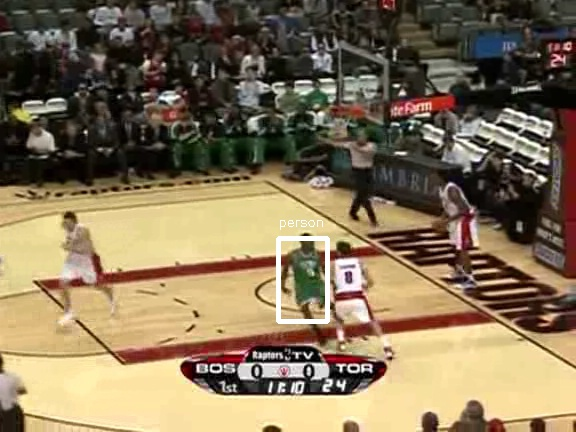person: (294, 238, 328, 319), (293, 238, 327, 319), (295, 238, 329, 319), (294, 237, 328, 318), (294, 239, 328, 320)
target_negative: (172, 302, 361, 409), (250, 4, 450, 46), (385, 207, 402, 383), (196, 153, 234, 227), (228, 361, 329, 385), (74, 421, 268, 424)
